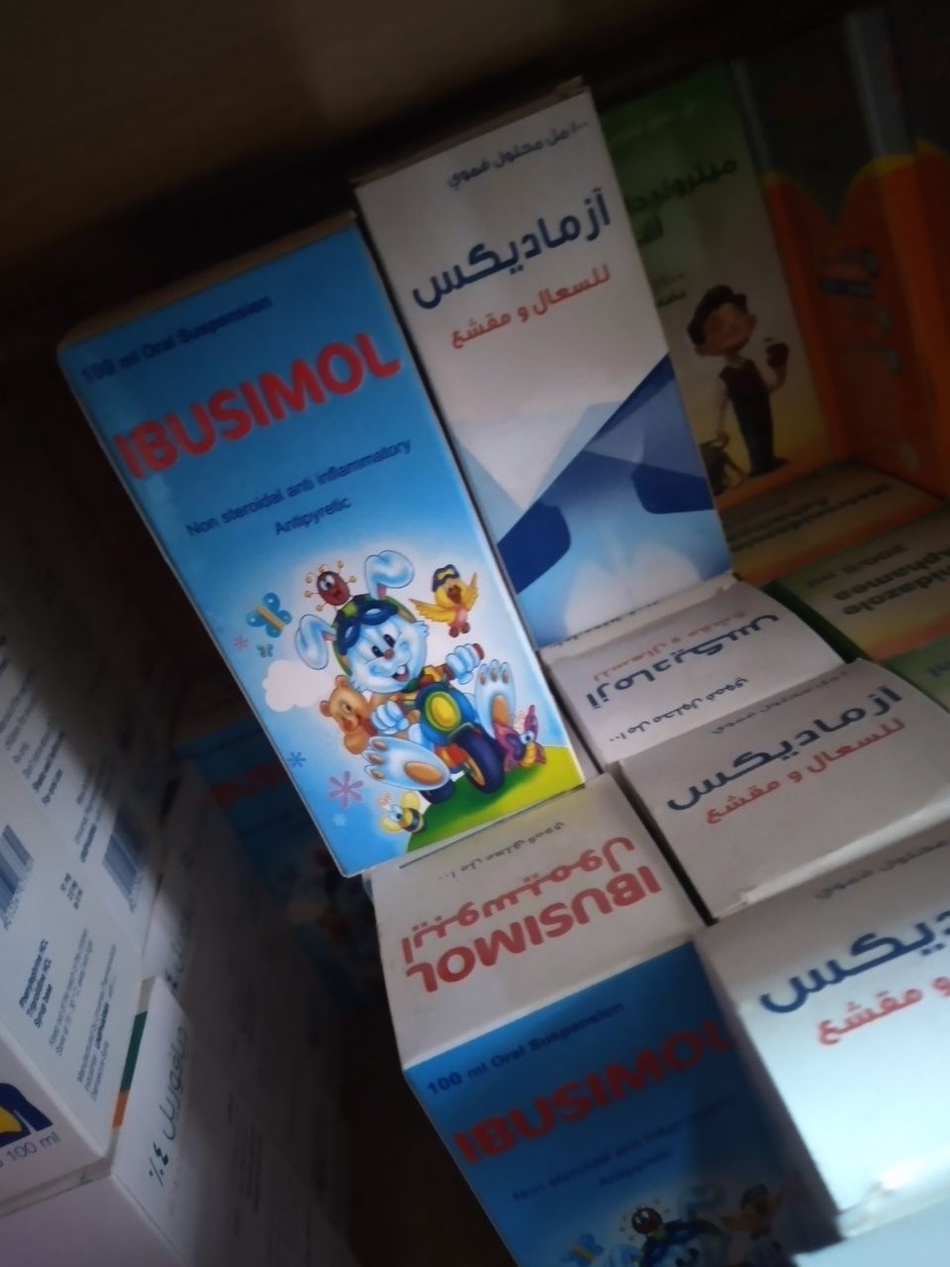Medicine: (43, 221, 581, 841), (356, 89, 769, 640), (373, 772, 660, 1099), (620, 650, 950, 901)
